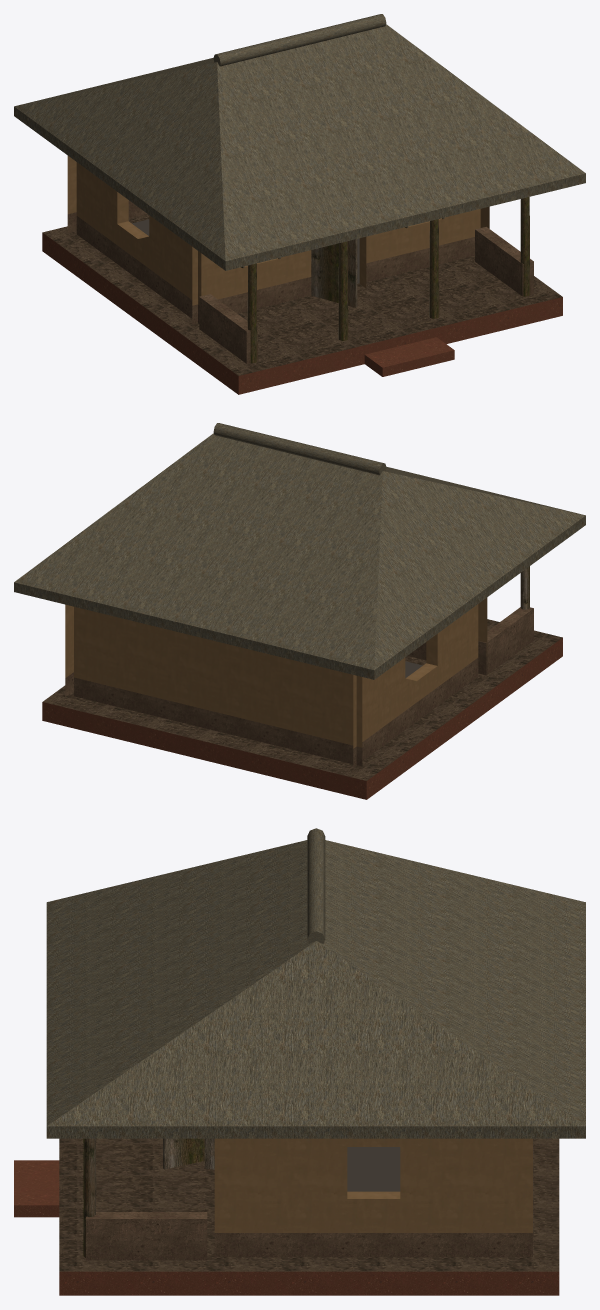
Rendered from hut_a.glb.
3 views of the same model, one above another, from view 1: azimuth 30°, elevation 25°; view 2: azimuth 150°, elevation 25°; view 3: azimuth 270°, elevation 25° (orthographic). The views are drawn at different scales.
Visible parts, largest first — view 1: hut_a; view 2: hut_a; view 3: hut_a.
Part boxes in pixels (<box>): hut_a: <box>14,14,585,394</box>; hut_a: <box>14,423,585,799</box>; hut_a: <box>14,828,585,1295</box>.
Size of the model in its own units: 7 by 4.59 by 7.55.
Materials: 8 (7 with a texture image).
